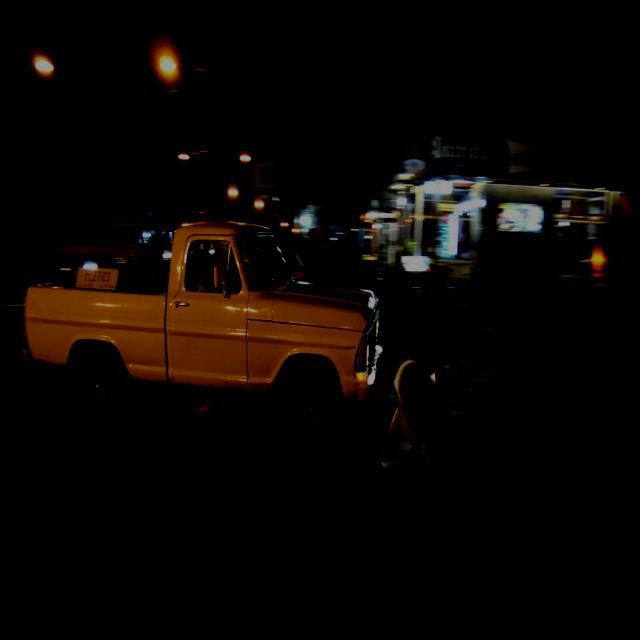Dog: (377, 359, 457, 468)
